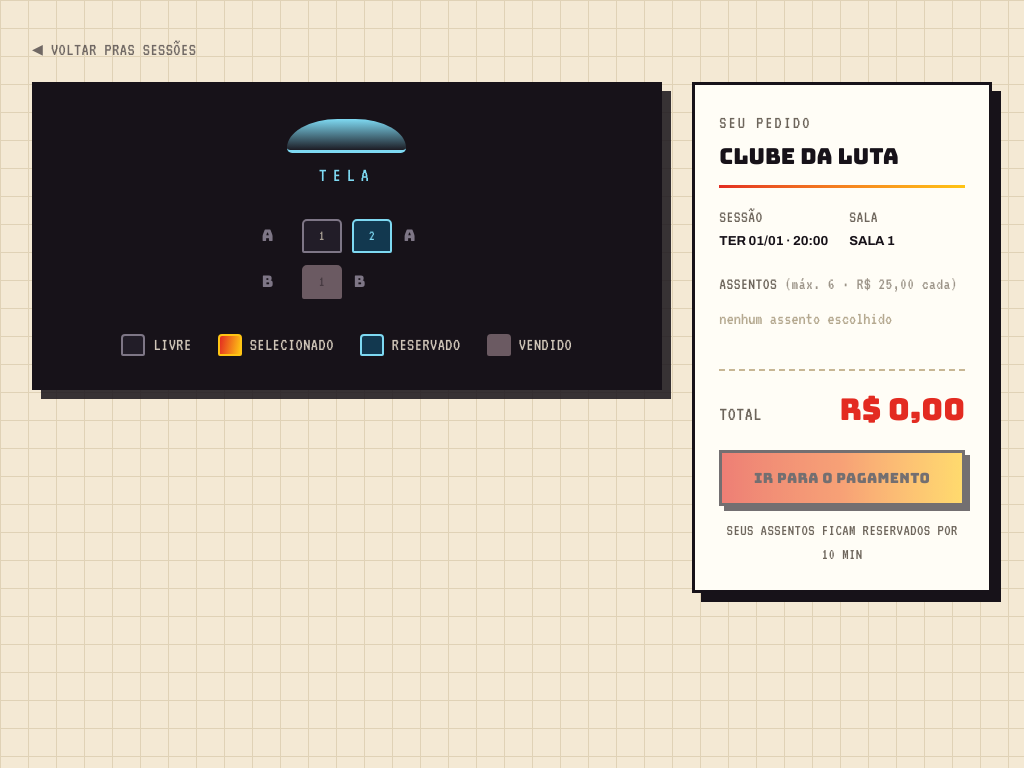
Scenario: MapaAssentosPage › shows an error and reloads the map, clearing the selection, on a 409 conflict
Click the button named "Assento A1 — livre". click: (322, 236)
box: left=302, top=219, right=342, bottom=253
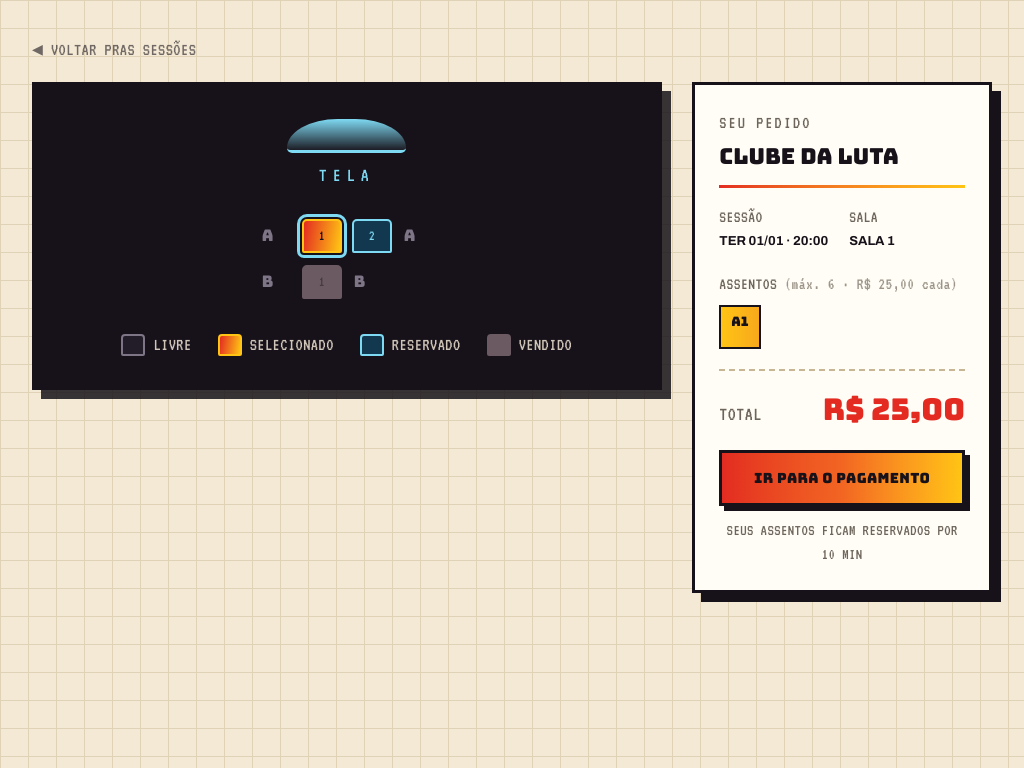
Click the button "IR PARA O PAGAMENTO". click: (842, 478)
box: left=719, top=450, right=965, bottom=506
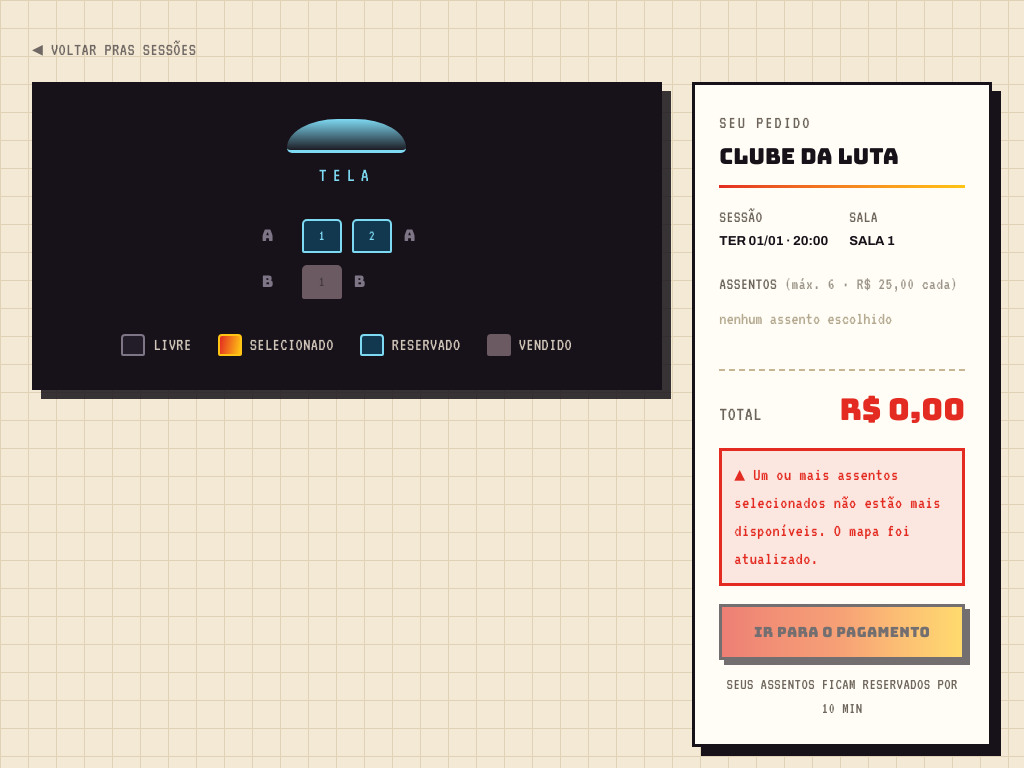
Result: the message shows "não estão mais disponíveis" at left=734, top=466, right=941, bottom=568
Result: the button named "Assento A1 — reservado" is shown at left=302, top=219, right=342, bottom=253
Result: the button "IR PARA O PAGAMENTO" is disabled at left=719, top=604, right=965, bottom=660
